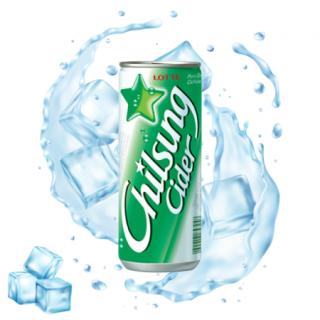chilsung: (116, 58, 204, 274)
